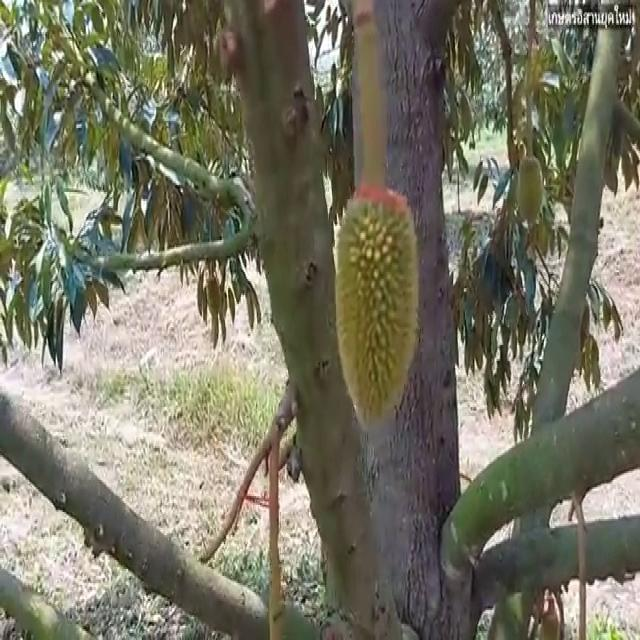durian: (330, 182, 424, 443), (516, 149, 545, 230)
